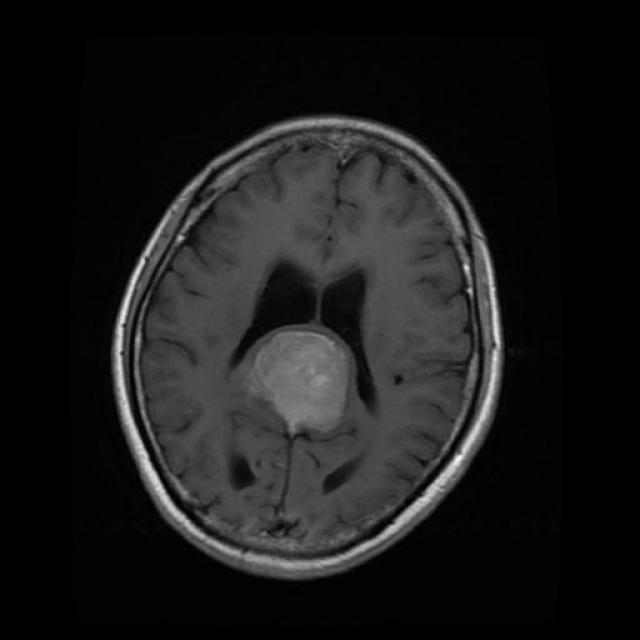meningioma: (242, 332, 348, 432)
